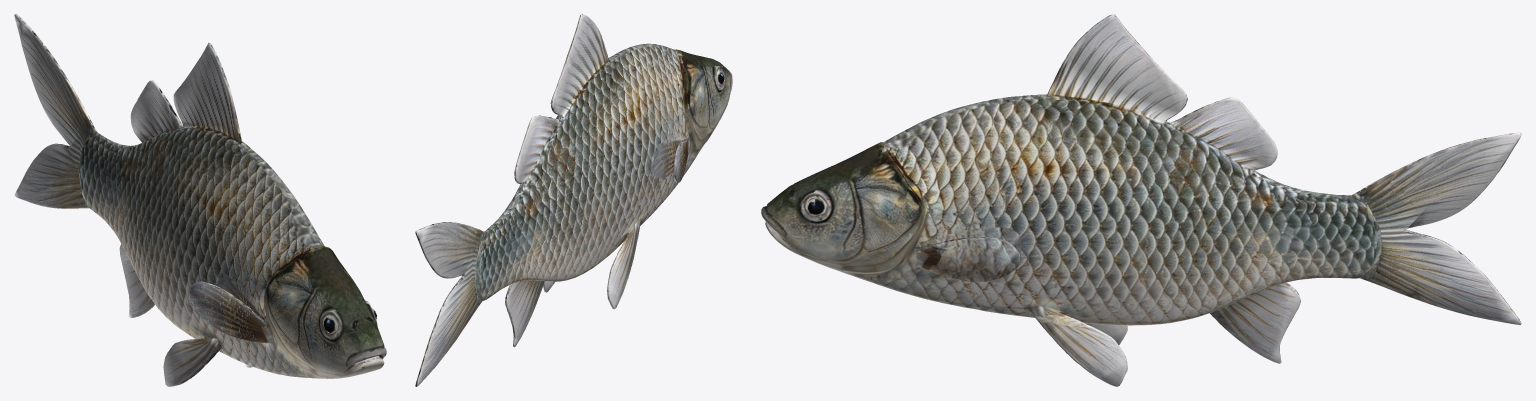
The model's file is crucian.glb.
3 renders of one model, left to right at view 1: azimuth 30°, elevation 25°; view 2: azimuth 150°, elevation 25°; view 3: azimuth 270°, elevation 25°, orthographic. The views are drawn at different scales.
Visible parts, largest first — view 1: crucian; view 2: crucian; view 3: crucian.
Boxes of the visible parts, x1,y1,x2,y2 form: crucian: [14, 14, 386, 386]; crucian: [415, 14, 732, 386]; crucian: [761, 14, 1521, 386].
Size of the model in its own units: 0.2091 by 0.5111 by 1.
1 material, 1 textured.
